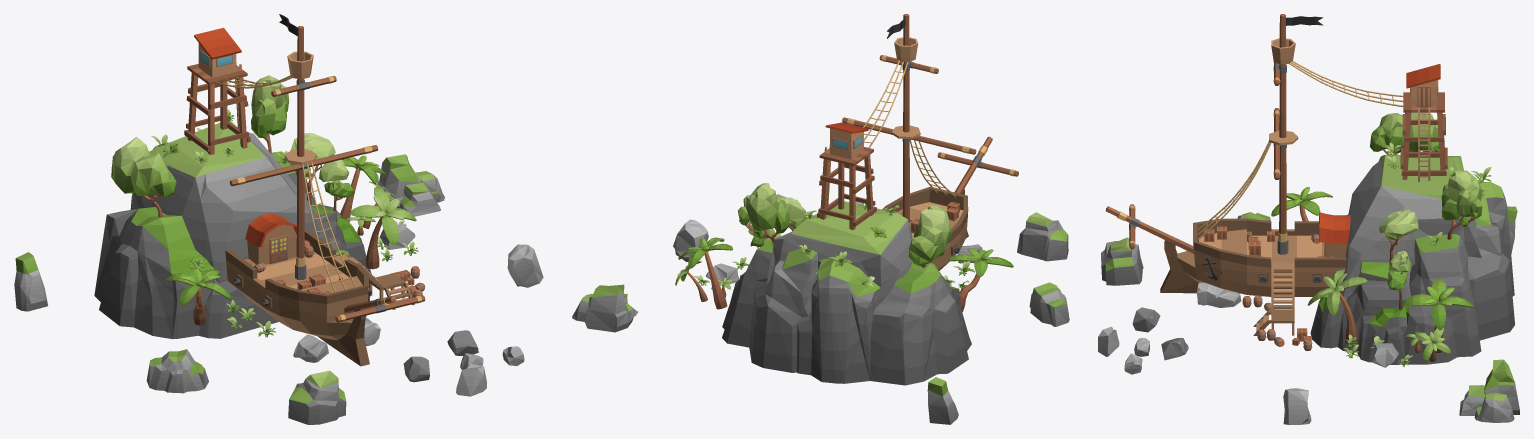
File: mountain_ship.glb
3 views of the same model, side by side, from view 1: azimuth 30°, elevation 25°; view 2: azimuth 150°, elevation 25°; view 3: azimuth 270°, elevation 25° (orthographic). The views are drawn at different scales.
Parts seen in each view (by area): view 1: mountain 4_14, destroyed ship 5_63, observation tower_28, tree 3_17, green stone 6_47, green stone 4_8, tree 2_66, palm tree tilted 3 (1)_4, green stone 2_21, palm tree bent 3_24, green stone_57, stone small 6_61 (+10 smaller); view 2: mountain 4_14, destroyed ship 5_63, observation tower_28, tree 2_66, green stone 6_47, tree 3_17, green stone_57, green stone 4_8, green stone 2_21, palm tree large 3_50, palm tree bent 3_24, stone small 6_61 (+3 smaller); view 3: mountain 4_14, destroyed ship 5_63, observation tower_28, tree 2_66, tree 3_17, green stone 6_47, steps 4_43, palm tree tilted 3 (1)_4, palm tree large 3_50, green stone_57, tree 10_5, green stone 5_49 (+13 smaller).
Boxes of the visible parts, x1=… form: mountain 4_14: x1=94, y1=119, x2=371, y2=339; destroyed ship 5_63: x1=225, y1=14, x2=425, y2=366; observation tower_28: x1=184, y1=27, x2=250, y2=154; tree 3_17: x1=111, y1=137, x2=176, y2=217; green stone 6_47: x1=288, y1=370, x2=346, y2=424; green stone 4_8: x1=146, y1=349, x2=208, y2=393; tree 2_66: x1=251, y1=75, x2=289, y2=153; palm tree tilted 3 (1)_4: x1=350, y1=187, x2=416, y2=269; green stone 2_21: x1=14, y1=252, x2=48, y2=311; palm tree bent 3_24: x1=166, y1=269, x2=230, y2=325; green stone_57: x1=377, y1=154, x2=421, y2=208; stone small 6_61: x1=507, y1=244, x2=543, y2=287; mountain 4_14: x1=722, y1=201, x2=971, y2=385; destroyed ship 5_63: x1=842, y1=14, x2=1018, y2=270; observation tower_28: x1=817, y1=122, x2=876, y2=230; tree 2_66: x1=738, y1=183, x2=789, y2=244; green stone 6_47: x1=1017, y1=212, x2=1068, y2=261; tree 3_17: x1=908, y1=205, x2=951, y2=267; green stone_57: x1=585, y1=284, x2=633, y2=332; green stone 4_8: x1=1029, y1=282, x2=1069, y2=326; green stone 2_21: x1=927, y1=377, x2=958, y2=424; palm tree large 3_50: x1=678, y1=237, x2=732, y2=309; palm tree bent 3_24: x1=947, y1=248, x2=1013, y2=312; stone small 6_61: x1=673, y1=219, x2=708, y2=261; mountain 4_14: x1=1310, y1=154, x2=1514, y2=364; destroyed ship 5_63: x1=1105, y1=14, x2=1350, y2=296; observation tower_28: x1=1400, y1=64, x2=1447, y2=179; tree 2_66: x1=1441, y1=170, x2=1482, y2=239; tree 3_17: x1=1370, y1=112, x2=1439, y2=154; green stone 6_47: x1=1101, y1=237, x2=1143, y2=285; steps 4_43: x1=1253, y1=263, x2=1294, y2=335; palm tree tilted 3 (1)_4: x1=1307, y1=269, x2=1367, y2=344; palm tree large 3_50: x1=1403, y1=279, x2=1473, y2=352; green stone_57: x1=1483, y1=359, x2=1519, y2=414; tree 10_5: x1=1379, y1=209, x2=1418, y2=264; green stone 5_49: x1=1474, y1=393, x2=1514, y2=422.
Size of the model in its own units: 19.64 by 14.72 by 18.08.
1 material, 1 textured.
